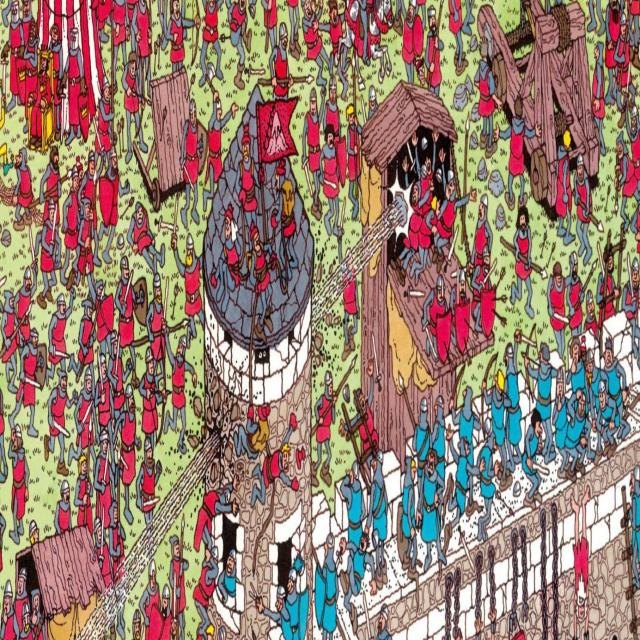waldo: (414, 56, 425, 86)
